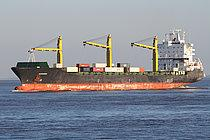Ship: (10, 29, 210, 96)
